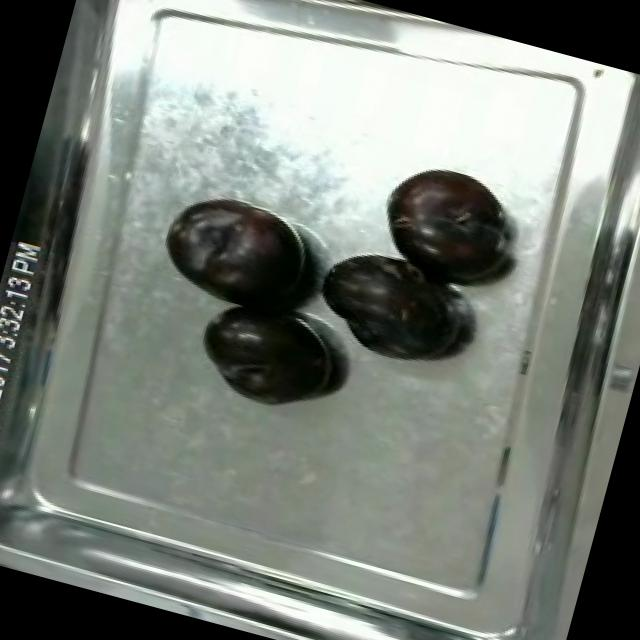Fruit: (149, 182, 326, 328), (300, 237, 476, 377), (366, 150, 524, 298), (184, 284, 348, 424)
